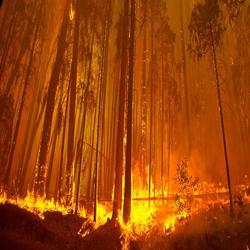fire: (132, 188, 157, 232), (27, 196, 64, 215), (94, 202, 110, 226)
